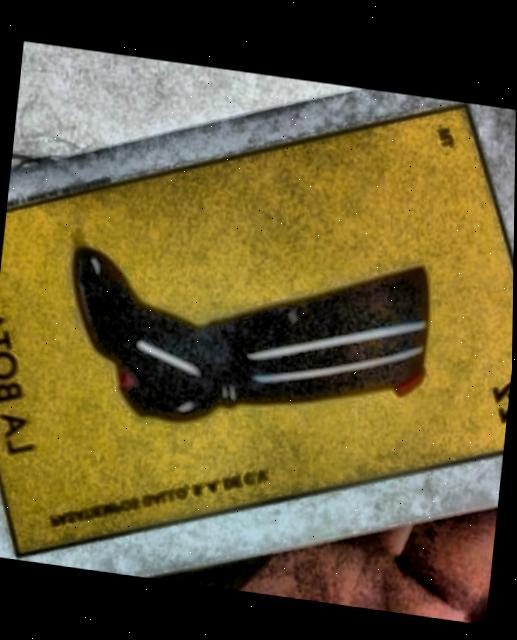La Bota: (0, 98, 514, 555)
